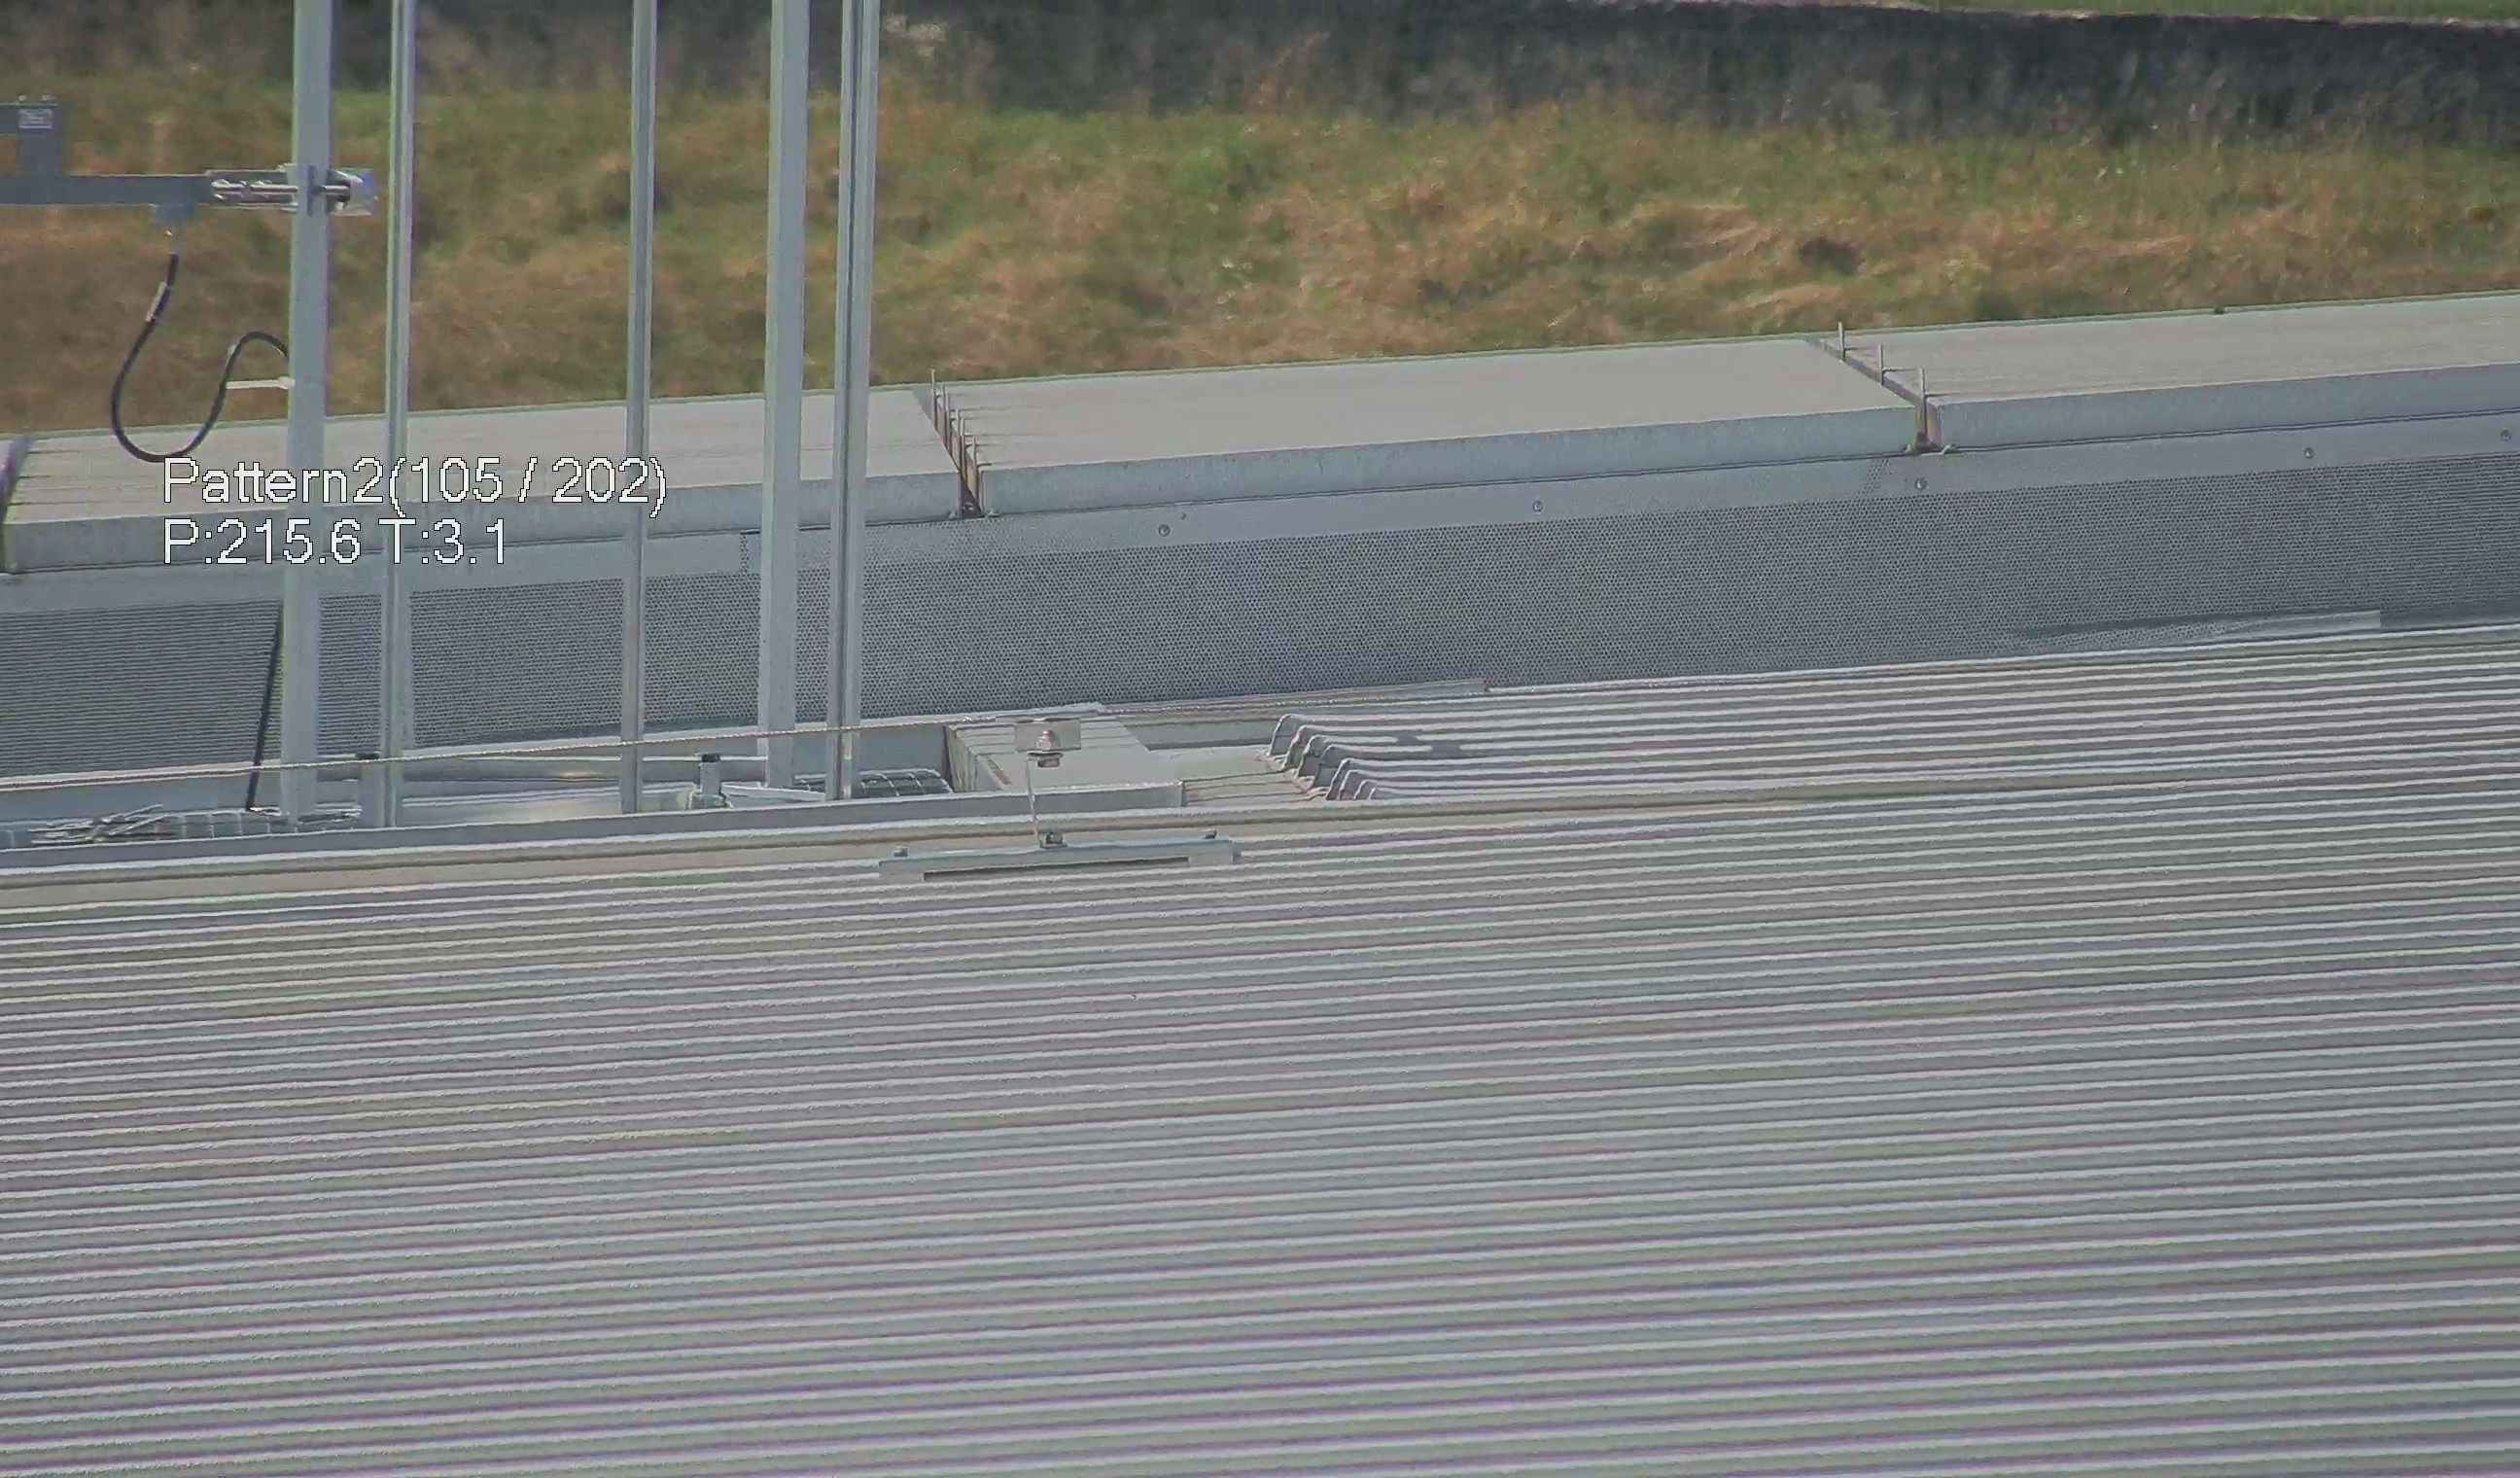Other: (1270, 691, 1391, 818)
